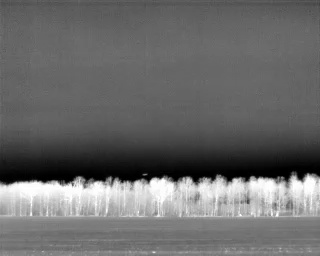DRONE: (140, 170, 151, 179)
